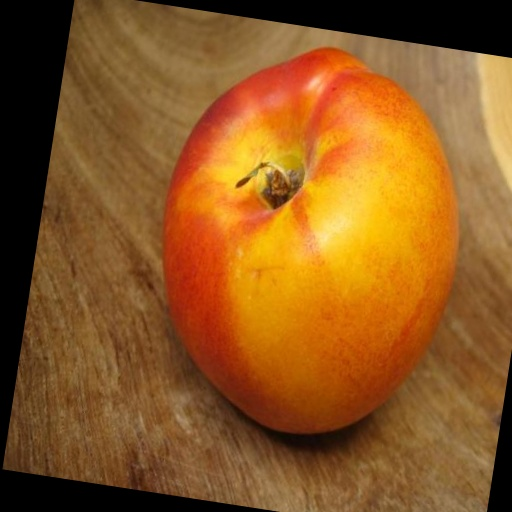fruit: (162, 48, 457, 432)
